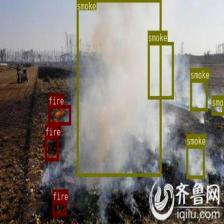fire: (48, 105, 71, 125), (45, 136, 58, 160), (52, 200, 66, 216)
smoke: (76, 0, 161, 176), (147, 41, 173, 99), (186, 145, 205, 178), (190, 78, 207, 110), (211, 95, 224, 115)
